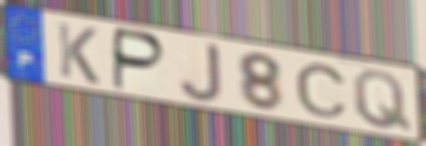8: (234, 50, 287, 113)
C: (292, 62, 351, 119)
J: (177, 41, 225, 105)
K: (55, 20, 102, 87)
P: (110, 26, 169, 94)
Q: (350, 68, 415, 134)
